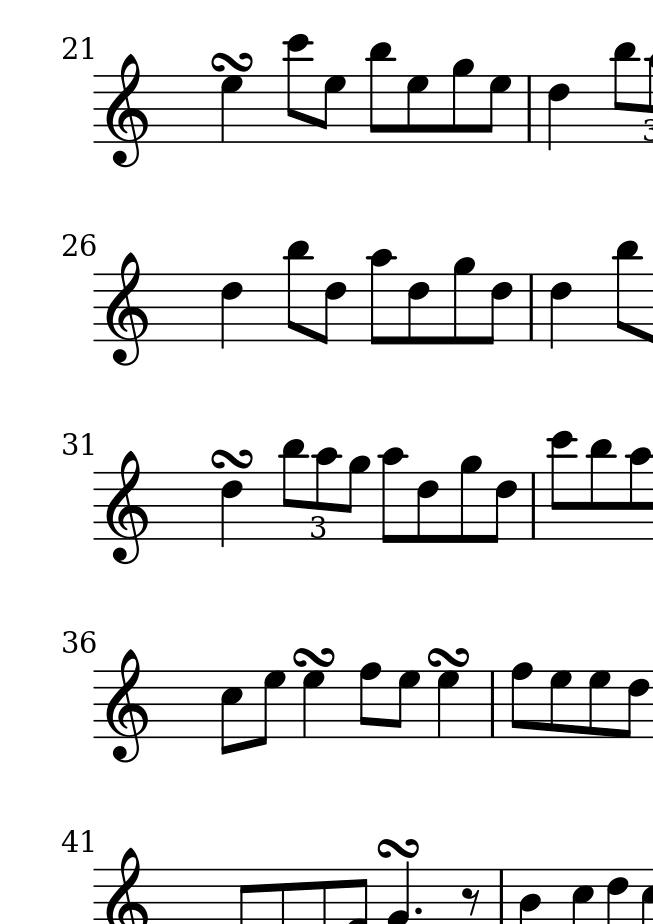1: (80, 33, 96, 63), (80, 429, 96, 459), (79, 828, 95, 854)
2: (61, 34, 79, 63), (61, 231, 78, 260)
3: (308, 513, 326, 541), (62, 428, 77, 458), (61, 629, 78, 655)
4: (63, 829, 80, 855)
4_6: (218, 471, 246, 549), (546, 74, 571, 150), (548, 273, 572, 349), (219, 273, 243, 348)
4_7: (301, 669, 329, 741), (220, 74, 244, 143), (436, 671, 460, 738)
6: (77, 231, 96, 260), (79, 631, 97, 656)
8_10: (377, 447, 409, 544), (313, 447, 344, 541), (366, 248, 394, 345), (628, 446, 653, 540)
8_11: (587, 438, 618, 541), (283, 239, 314, 340), (278, 438, 308, 540), (611, 39, 640, 142), (368, 42, 396, 143), (614, 240, 640, 342)
8_12: (542, 430, 577, 541), (285, 35, 312, 145)
8_5: (217, 668, 244, 757)
8_6: (488, 471, 519, 547), (318, 272, 349, 343), (484, 271, 513, 346), (621, 670, 650, 740), (415, 471, 440, 546), (405, 271, 430, 345)
8_7: (253, 669, 285, 748), (318, 75, 349, 144), (585, 669, 613, 741), (483, 75, 512, 143), (391, 670, 420, 738), (549, 669, 576, 741), (404, 74, 430, 143)
8_8: (508, 662, 534, 738), (359, 660, 384, 738)
8_9: (456, 455, 483, 547), (343, 455, 372, 540), (451, 257, 476, 344), (451, 58, 475, 145)
Gclef: (105, 251, 149, 366), (105, 450, 148, 564), (106, 53, 148, 168), (108, 647, 148, 763)
Rests8: (458, 884, 481, 917)
Single_barline: (521, 75, 540, 145), (483, 669, 502, 738), (524, 471, 543, 538), (522, 274, 540, 341)
Turn: (426, 644, 474, 668), (209, 445, 255, 469), (374, 837, 422, 860), (292, 646, 339, 669), (208, 49, 254, 72)
dot: (411, 903, 424, 917)
